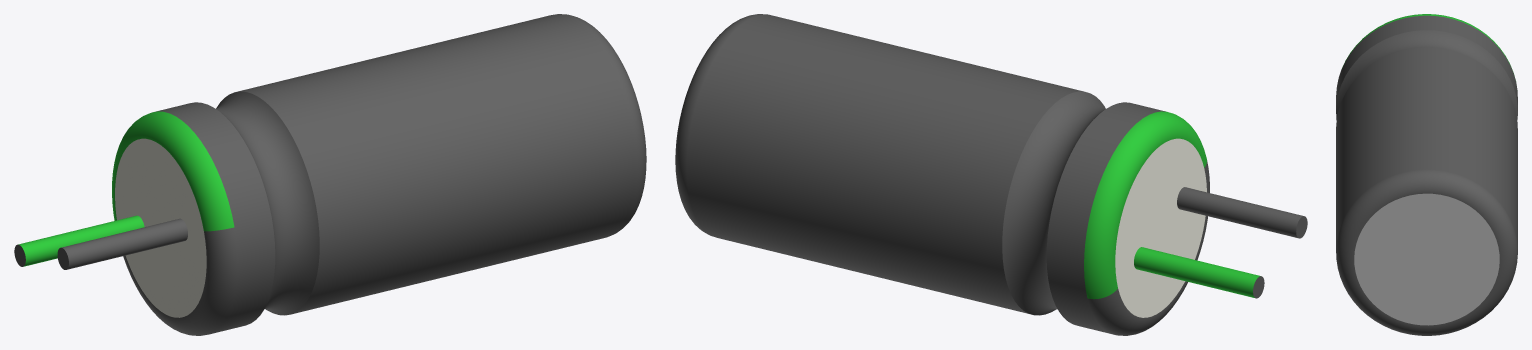
File: EBoxNewAsm_stp_1_IMC413_1_stp_1_IMC413_1_34_stp_1_solid1.obj
3 renders of one model, left to right at view 1: azimuth 30°, elevation 25°; view 2: azimuth 150°, elevation 25°; view 3: azimuth 270°, elevation 25°, orthographic. The views are drawn at different scales.
Visible parts, largest first — view 1: mesh9787, mesh9777, mesh9782, mesh9778, mesh9779, mesh9785, mesh9786, mesh9780, mesh9776, mesh9783, mesh9788, mesh9784 (+1 smaller); view 2: mesh9787, mesh9777, mesh9782, mesh9778, mesh9785, mesh9783, mesh9780, mesh9776, mesh9788, mesh9779, mesh9786; view 3: mesh9787, mesh9790, mesh9788, mesh9789, mesh9783, mesh9782, mesh9778, mesh9784.
Part boxes in pixels (x1,y1,x2,y2): mesh9787: [237, 14, 634, 314]; mesh9777: [115, 138, 206, 317]; mesh9782: [155, 102, 275, 334]; mesh9778: [112, 111, 234, 231]; mesh9779: [123, 227, 237, 335]; mesh9785: [216, 91, 315, 212]; mesh9786: [265, 207, 319, 315]; mesh9780: [61, 218, 187, 269]; mesh9776: [18, 215, 144, 266]; mesh9783: [216, 108, 288, 217]; mesh9788: [555, 14, 643, 130]; mesh9784: [265, 212, 291, 308]; mesh9787: [687, 14, 1083, 314]; mesh9777: [1115, 138, 1206, 317]; mesh9782: [1046, 102, 1165, 334]; mesh9778: [1084, 111, 1206, 299]; mesh9785: [1002, 91, 1105, 278]; mesh9783: [1030, 108, 1105, 288]; mesh9780: [1177, 187, 1303, 237]; mesh9776: [1134, 247, 1260, 297]; mesh9788: [675, 14, 767, 201]; mesh9779: [1087, 160, 1209, 335]; mesh9786: [1005, 275, 1056, 315]; mesh9787: [1336, 47, 1517, 250]; mesh9790: [1354, 193, 1499, 325]; mesh9788: [1341, 169, 1517, 283]; mesh9789: [1336, 224, 1511, 335]; mesh9783: [1341, 30, 1517, 119]; mesh9782: [1336, 15, 1517, 110]; mesh9778: [1342, 14, 1516, 81]; mesh9784: [1336, 84, 1346, 119].
Size of the model in its own units: 0.014 by 0.005 by 0.005.
